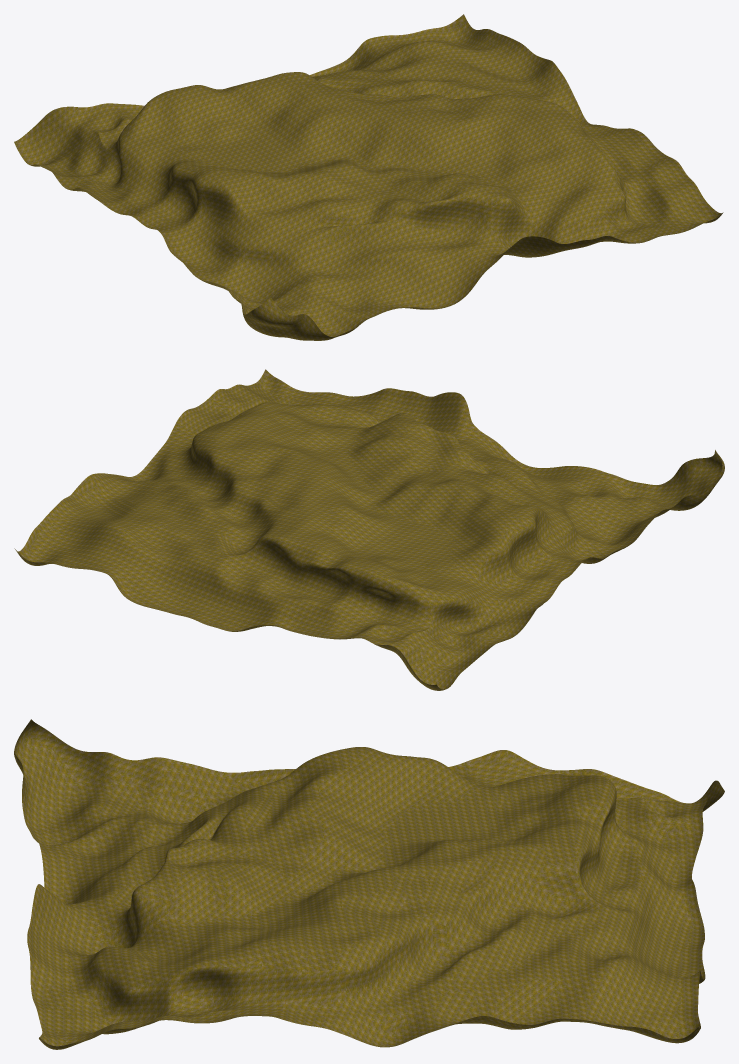
Rendered from island.gltf.
3 renders of one model, top to bottom at view 1: azimuth 30°, elevation 25°; view 2: azimuth 150°, elevation 25°; view 3: azimuth 270°, elevation 25°, orthographic. The views are drawn at different scales.
Parts seen in each view (by area): view 1: Plane; view 2: Plane; view 3: Plane.
Part boxes in pixels (box(x1,y1,x2,y2)): Plane: box(14, 14, 723, 340); Plane: box(14, 369, 724, 690); Plane: box(14, 719, 724, 1049).
Bounding box in the file's own units: 2.11 × 0.3122 × 2.15.
